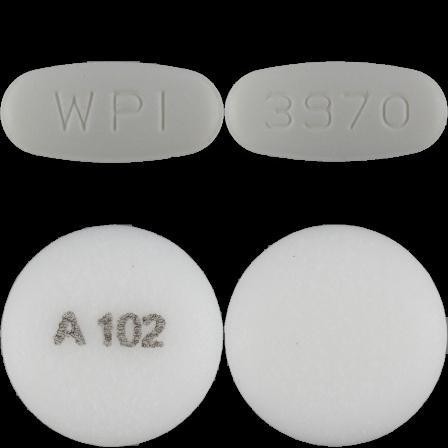0904-6568: (0, 0, 224, 224)
